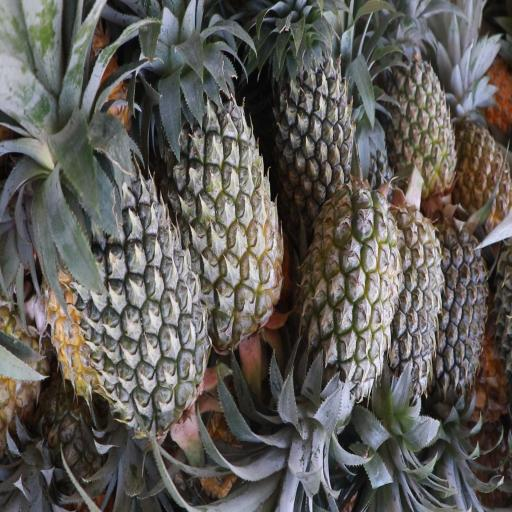------------------------------: (168, 85, 288, 333), (299, 174, 403, 398), (387, 40, 451, 194)
